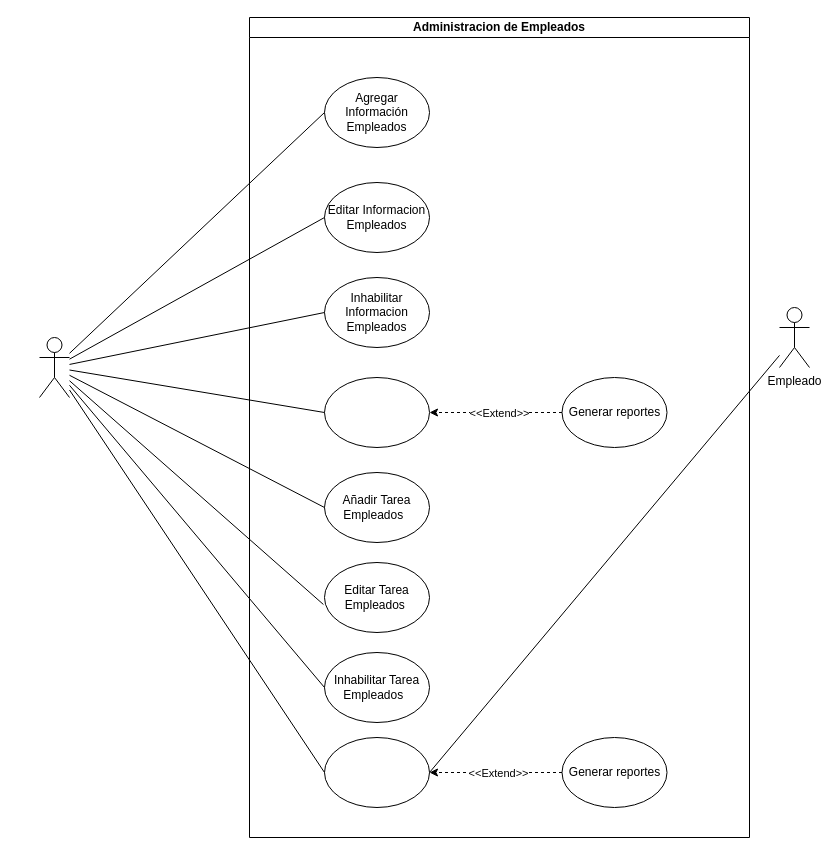
The diagram is 839 pixels wide and 855 high, and some of its shapes have lost their labels. Each missing label, with the centre of its shape:
"Administrador" goes at [54,367].
"Consultar Informacion Empleados" goes at [377,412].
"Consultar tareas Mecanicos" goes at [377,772].
